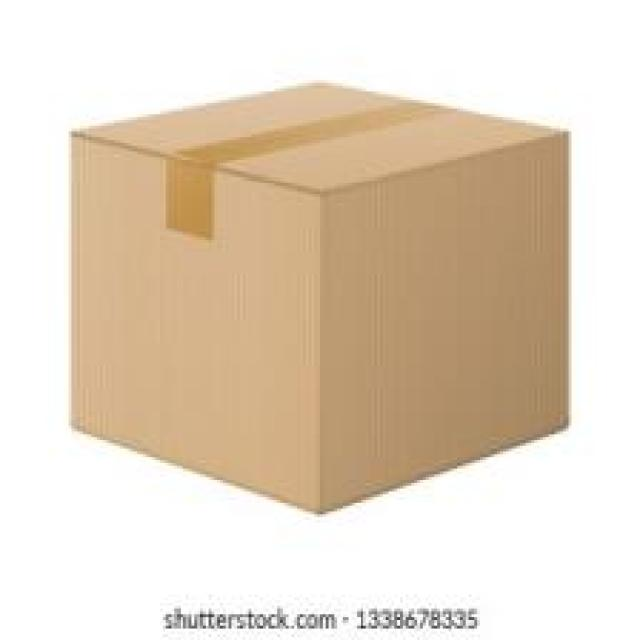box: (68, 81, 573, 514)
